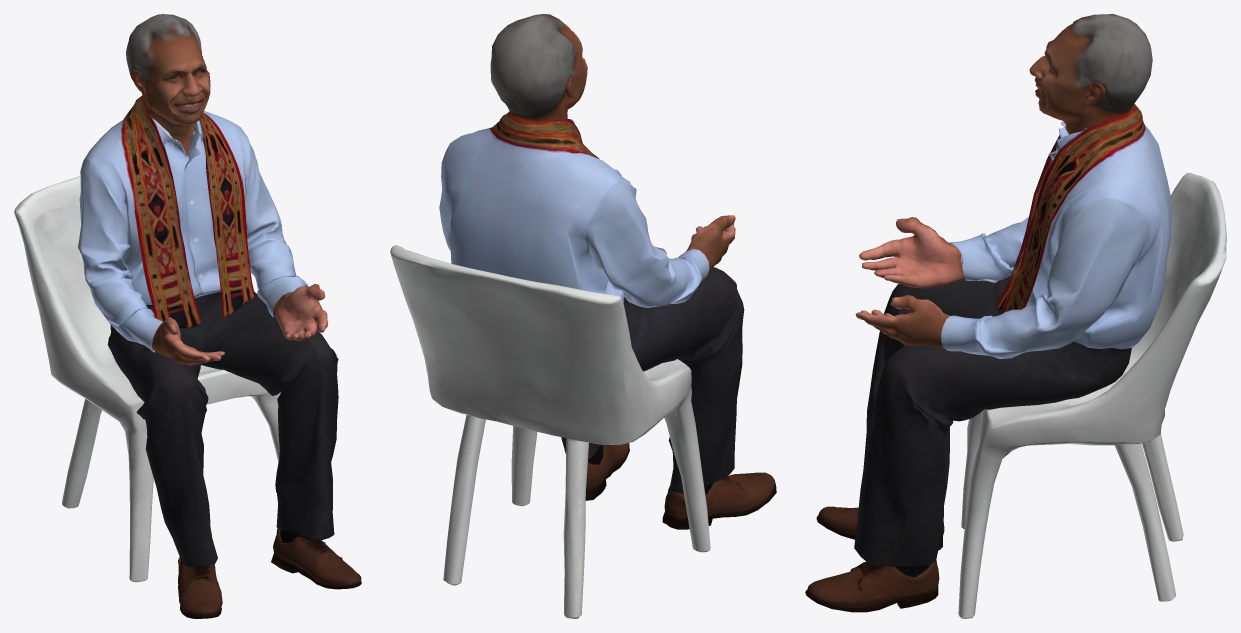
Rendered from speaker-elder.glb.
The picture shows the model from 3 angles, left to right: view 1: azimuth 30°, elevation 25°; view 2: azimuth 150°, elevation 25°; view 3: azimuth 270°, elevation 25°; orthographic projection. The views are drawn at different scales.
Parts seen in each view (by area): view 1: geometry_0; view 2: geometry_0; view 3: geometry_0.
Boxes of the visible parts, box(x1,y1,x2,y2) form: geometry_0: box(14, 14, 361, 618); geometry_0: box(390, 14, 776, 618); geometry_0: box(805, 14, 1226, 618).
Bounding box in the file's own units: 0.4185 × 0.9517 × 0.648.
1 material, 1 textured.
